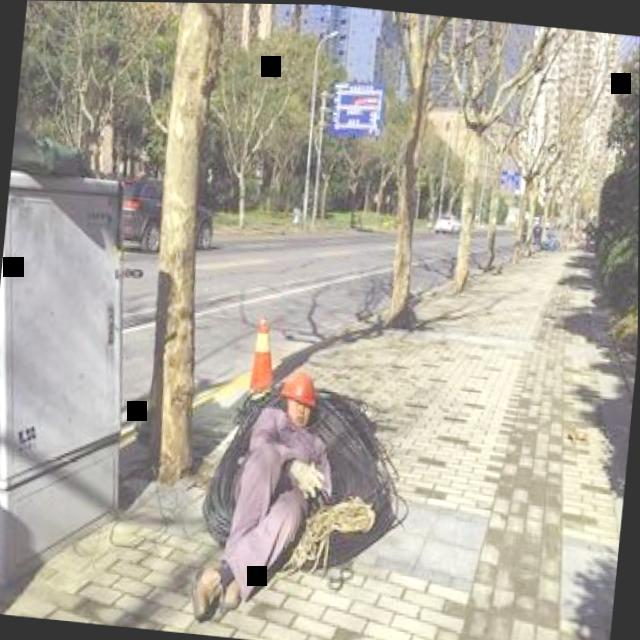Fall-Detected: (179, 347, 380, 635)
